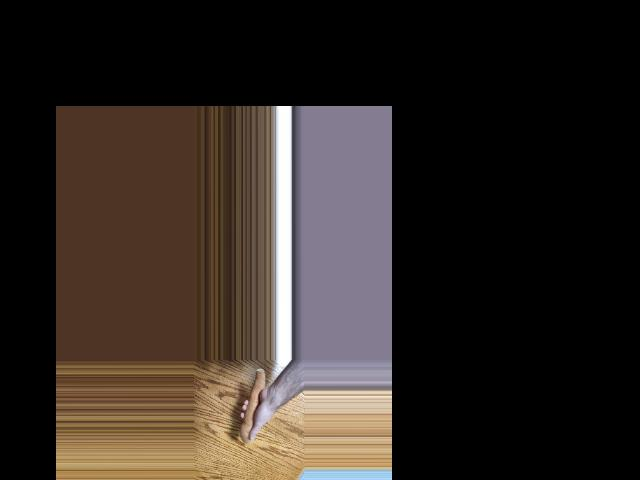sweet_potato: (239, 367, 266, 442)
